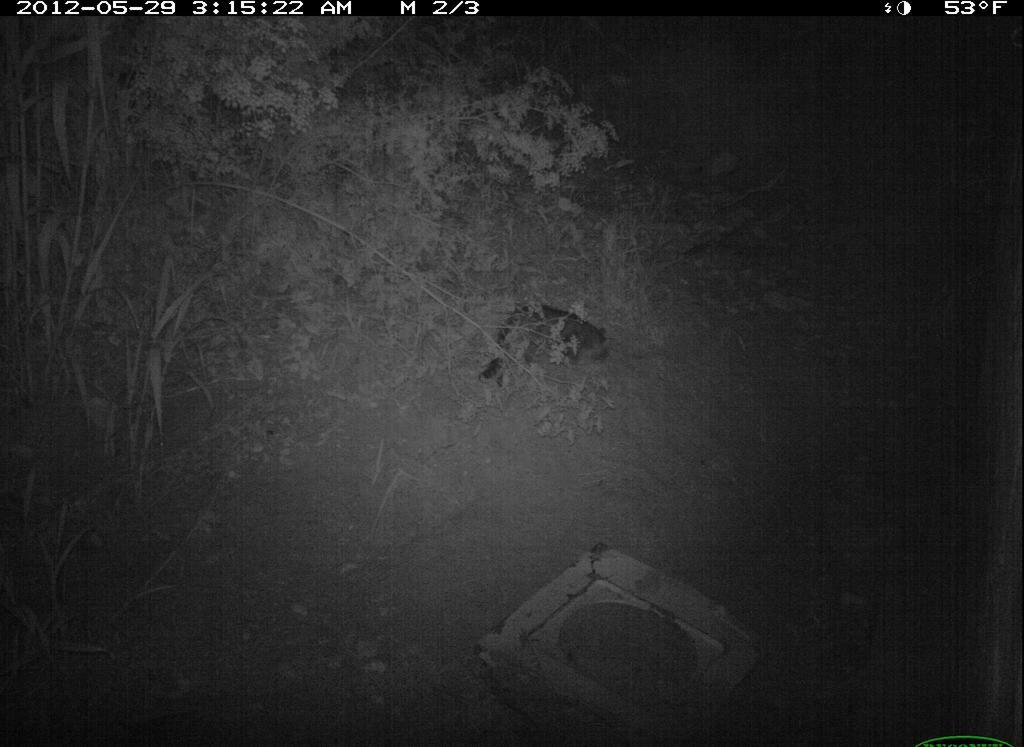cat: (472, 297, 624, 397)
